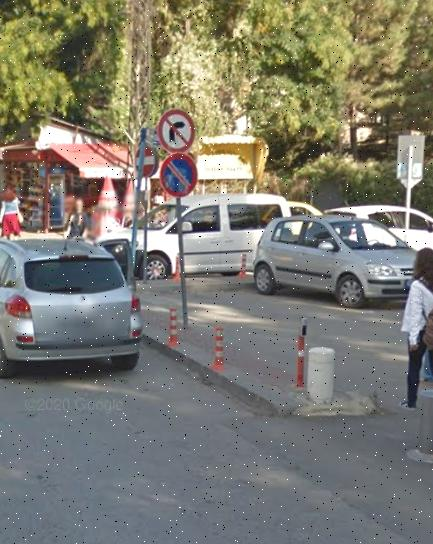nopark: (159, 152, 198, 196)
rightturnsareforbidden: (156, 109, 195, 150)
